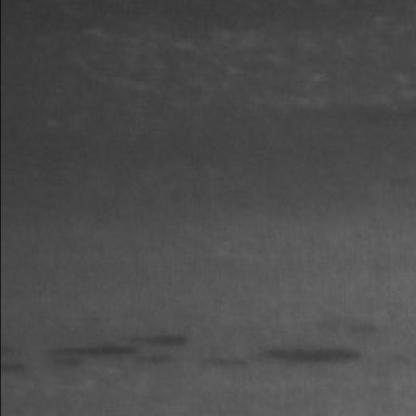inclusion: (46, 324, 195, 376), (204, 339, 370, 377)
